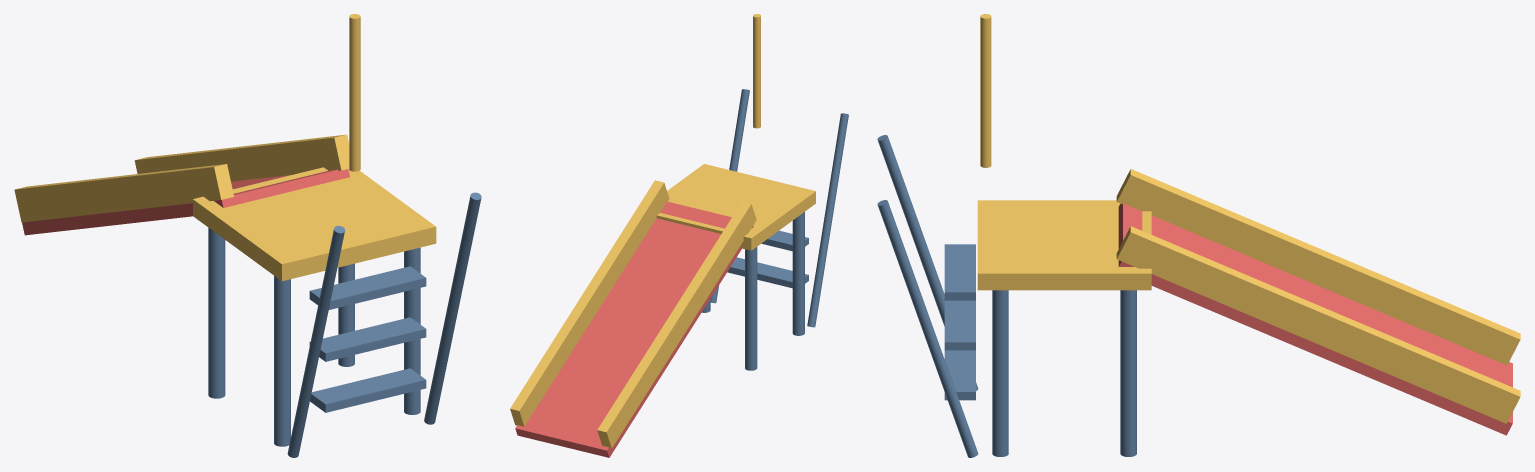
The model's file is slide.glb.
3 renders of one model, left to right at view 1: azimuth 30°, elevation 25°; view 2: azimuth 150°, elevation 25°; view 3: azimuth 270°, elevation 25°, orthographic. The views are drawn at different scales.
Visible parts, largest first — view 1: platform, railL, railR, chute, leg-0.4-0.5, leg-0.4-1.2, railBackR, railBackL, step0, step1, step2, safetybar (+2 smaller); view 2: chute, platform, railL, railR, railBackL, leg-0.4-0.5, leg-0.4-1.2, step0, safetybar, railBackR, step1; view 3: railR, railL, platform, chute, railBackR, leg0.4-0.5, leg0.4-1.2, railBackL, safetybar, step2, step1, step0.
Part boxes in pixels (box(x1,y1,x2,y2)): platform: box(193, 167, 436, 281); railL: box(14, 164, 234, 222); railR: box(134, 134, 349, 181); chute: box(22, 169, 349, 235); leg-0.4-0.5: box(208, 227, 225, 398); leg-0.4-1.2: box(274, 276, 290, 446); railBackR: box(424, 192, 481, 424); railBackL: box(287, 226, 344, 457); step0: box(310, 368, 426, 412); step1: box(309, 317, 426, 361); step2: box(309, 266, 426, 309); safetybar: box(349, 14, 360, 171); chute: box(515, 201, 753, 457); platform: box(656, 164, 815, 250); railL: box(597, 201, 756, 448); railR: box(510, 180, 669, 426); railBackL: box(807, 113, 848, 327); leg-0.4-0.5: box(745, 247, 757, 370); leg-0.4-1.2: box(792, 212, 804, 335); step0: box(727, 257, 808, 288); safetybar: box(753, 14, 760, 128); railBackR: box(710, 89, 749, 303); step1: box(761, 230, 808, 251); railR: box(1116, 226, 1520, 423); railL: box(1116, 169, 1520, 365); platform: box(977, 200, 1151, 290); chute: box(1118, 203, 1512, 435); railBackR: box(877, 200, 978, 457); leg0.4-0.5: box(1120, 290, 1136, 456); leg0.4-1.2: box(992, 290, 1008, 456); railBackL: box(877, 135, 978, 390); safetybar: box(980, 14, 991, 167); step2: box(944, 244, 975, 300); step1: box(944, 300, 975, 350); step0: box(944, 350, 975, 400).
Bounding box in the file's own units: 0.95 × 2.46 × 3.51.
